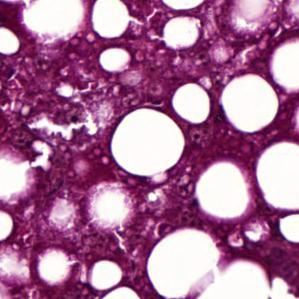steatosis: (110, 101, 185, 178), (223, 74, 279, 134)
